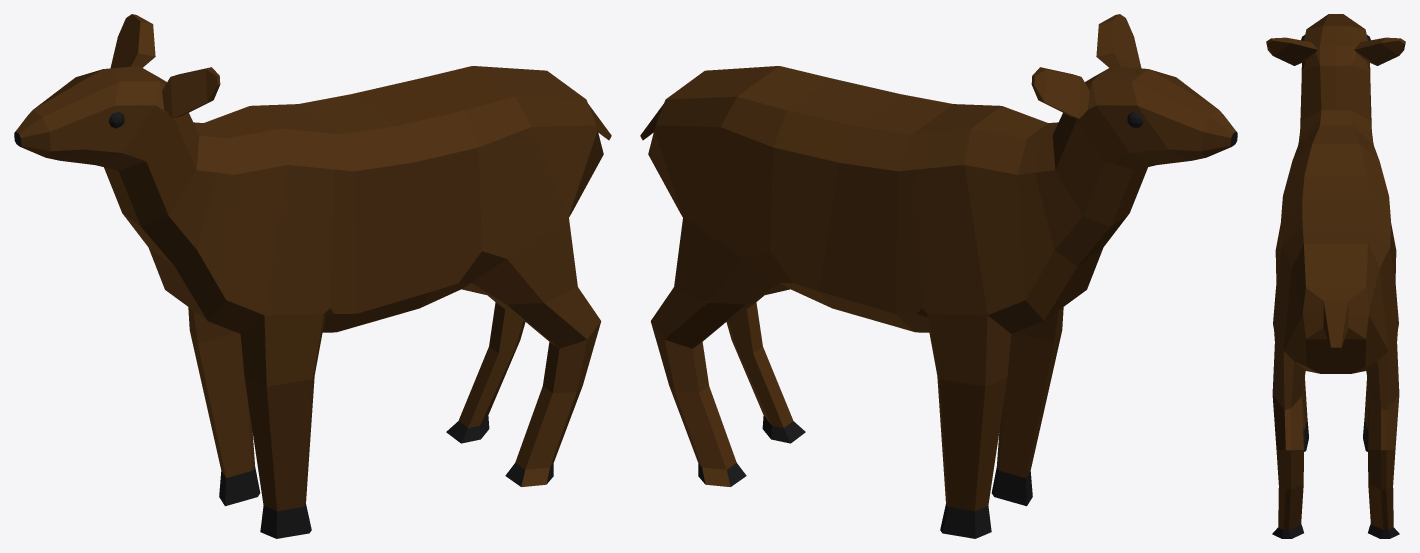
File: MageHunter - DeerEars.fbx
3 renders of one model, left to right at view 1: azimuth 30°, elevation 25°; view 2: azimuth 150°, elevation 25°; view 3: azimuth 270°, elevation 25°, orthographic. The views are drawn at different scales.
Parts seen in each view (by area): view 1: Cube; view 2: Cube; view 3: Cube.
Part boxes in pixels (left/top/right/bottom): Cube: left=14, top=14, right=611, bottom=538; Cube: left=640, top=14, right=1237, bottom=538; Cube: left=1266, top=14, right=1405, bottom=538.
Size of the model in its own units: 501 by 398 by 135.
